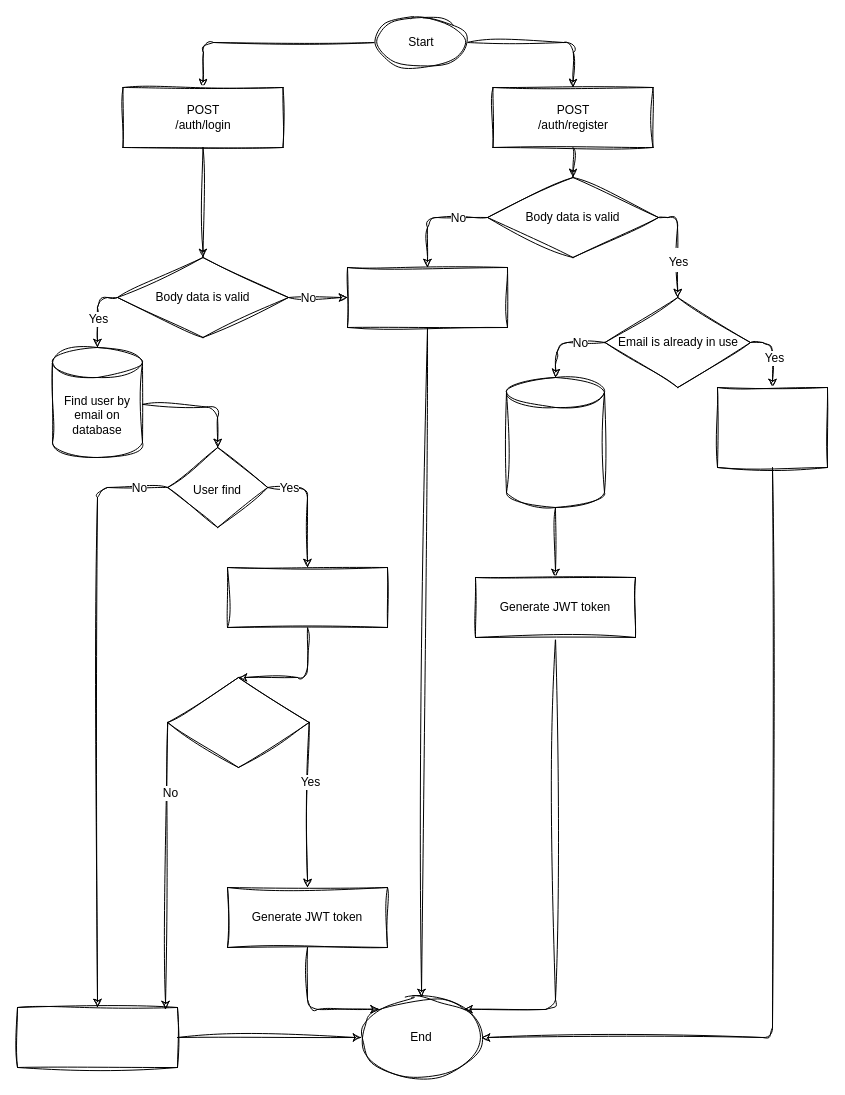
Some shapes in this 845 by 1095 pixel diagram are drawn without their labels. Each missing label, with the centre of its shape:
"Password valid" goes at (238,722).
"Register the new user in the database" goes at (555,442).
"Status: 400 Response: Email already registered" goes at (772,427).
"Status: 400 Response: Incorrect email or password" goes at (97,1037).
"Status: 422 Response: Unprocessable Entity" goes at (427,297).
"Valid user password" goes at (307,597).
